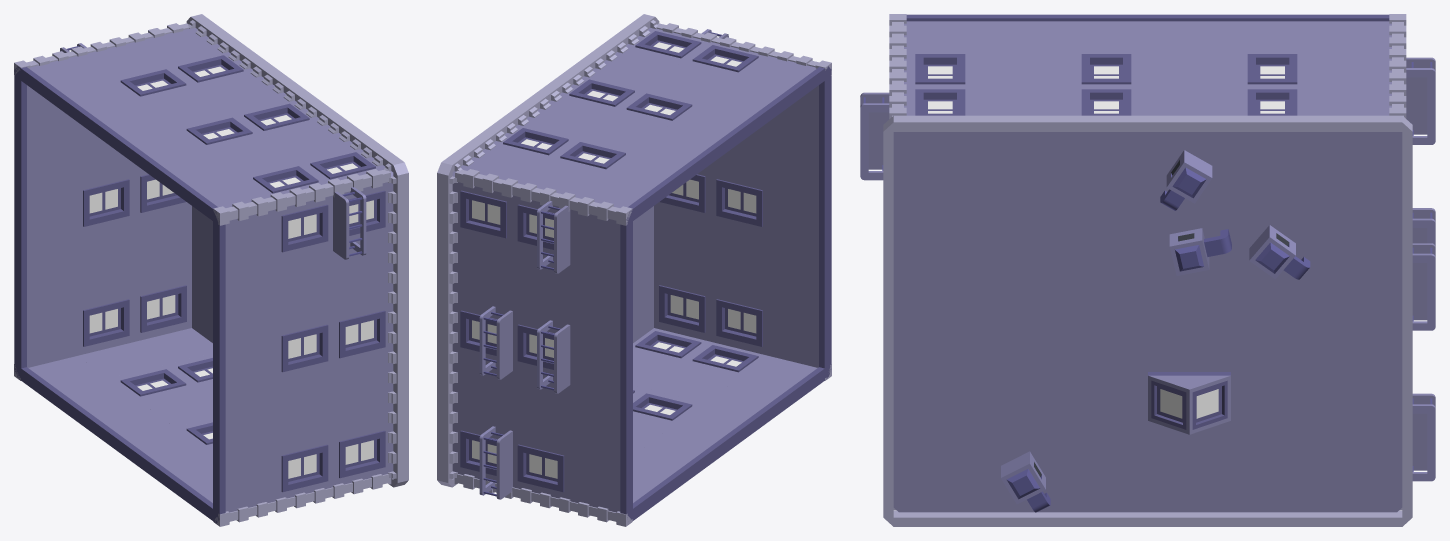
The model's file is House_3story_wide.glb.
3 renders of one model, left to right at view 1: azimuth 30°, elevation 25°; view 2: azimuth 150°, elevation 25°; view 3: azimuth 270°, elevation 25°, orthographic. The views are drawn at different scales.
Parts seen in each view (by area): view 1: mergedBlocks(Clone); view 2: mergedBlocks(Clone); view 3: mergedBlocks(Clone).
Part boxes in pixels (<box>): mergedBlocks(Clone): <box>14,14,408,526</box>; mergedBlocks(Clone): <box>437,14,831,526</box>; mergedBlocks(Clone): <box>860,14,1435,526</box>.
Bounding box in the file's own units: 3.6 × 5.37 × 6.93.
Materials: 1 (1 with a texture image).
